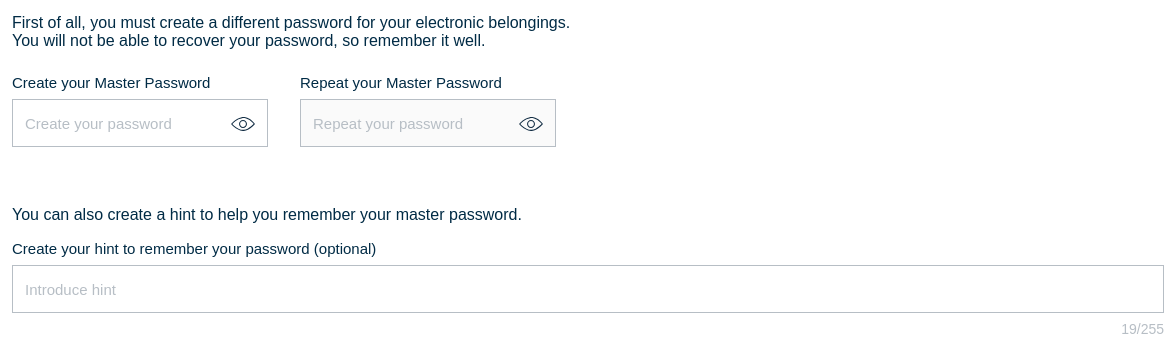
Test: Given a Form view › When createPassword length is bigger than 7 and input has incorrect requirements › Then it should show 'Must contain at least 1 number and one uppercase' error text
Type "12345678a" into the password field with test id "createPassword" at (140, 123), box [12,99,268,147]
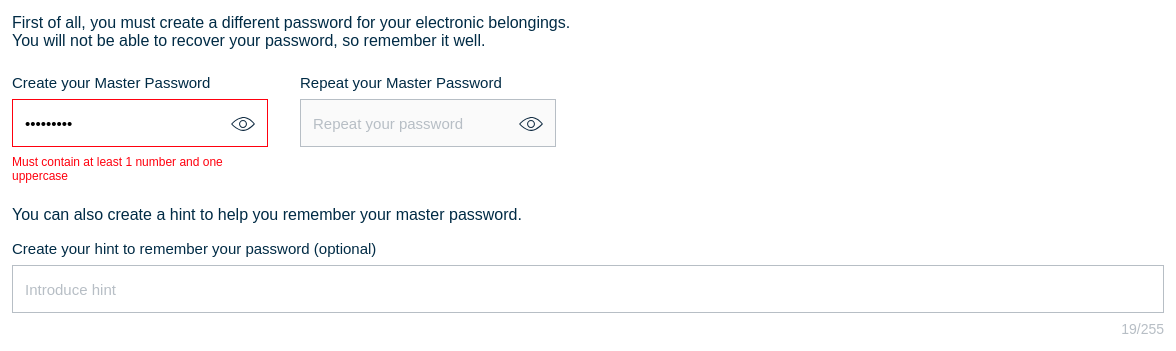
Now the text "Must contain at least 1 number and one uppercase" is shown, box [12,155,223,183]
